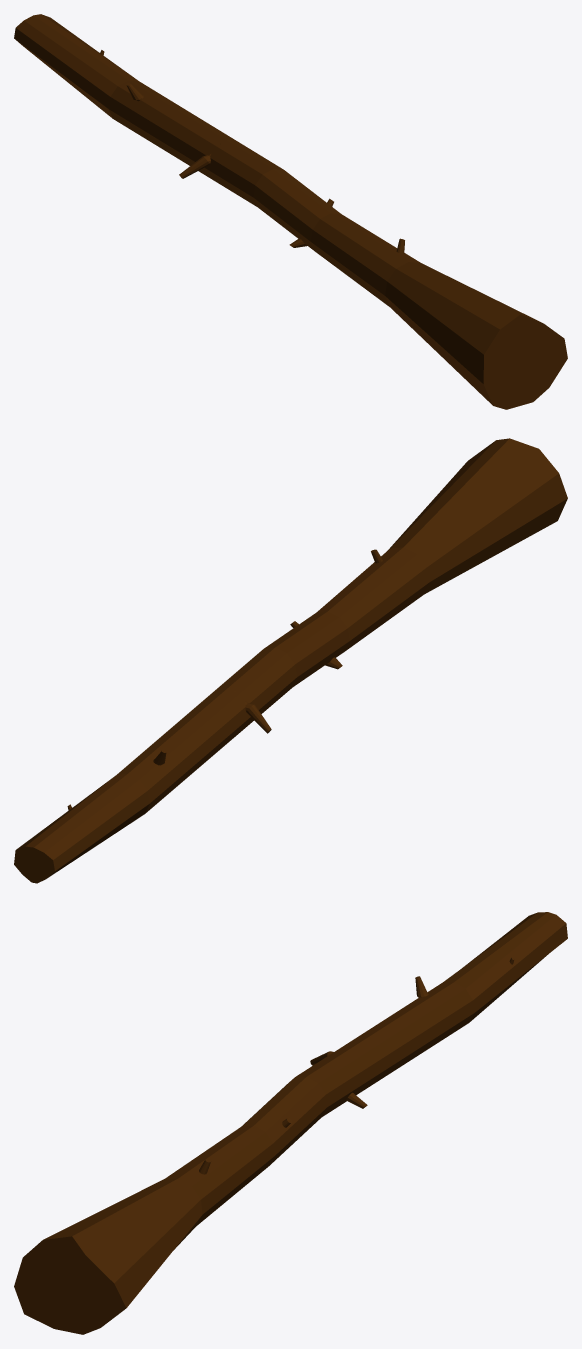
Rendered from fallen_log_variant6.fbx.
3 renders of one model, top to bottom at view 1: azimuth 30°, elevation 25°; view 2: azimuth 150°, elevation 25°; view 3: azimuth 330°, elevation 25°, orthographic. The views are drawn at different scales.
Visible parts, largest first — view 1: Cylinder.001; view 2: Cylinder.001; view 3: Cylinder.001.
Boxes of the visible parts, left/top/right/bottom form: Cylinder.001: left=14, top=14, right=567, bottom=409; Cylinder.001: left=14, top=438, right=567, bottom=883; Cylinder.001: left=14, top=912, right=567, bottom=1334.
Size of the model in its own units: 35.79 by 29.08 by 278.
